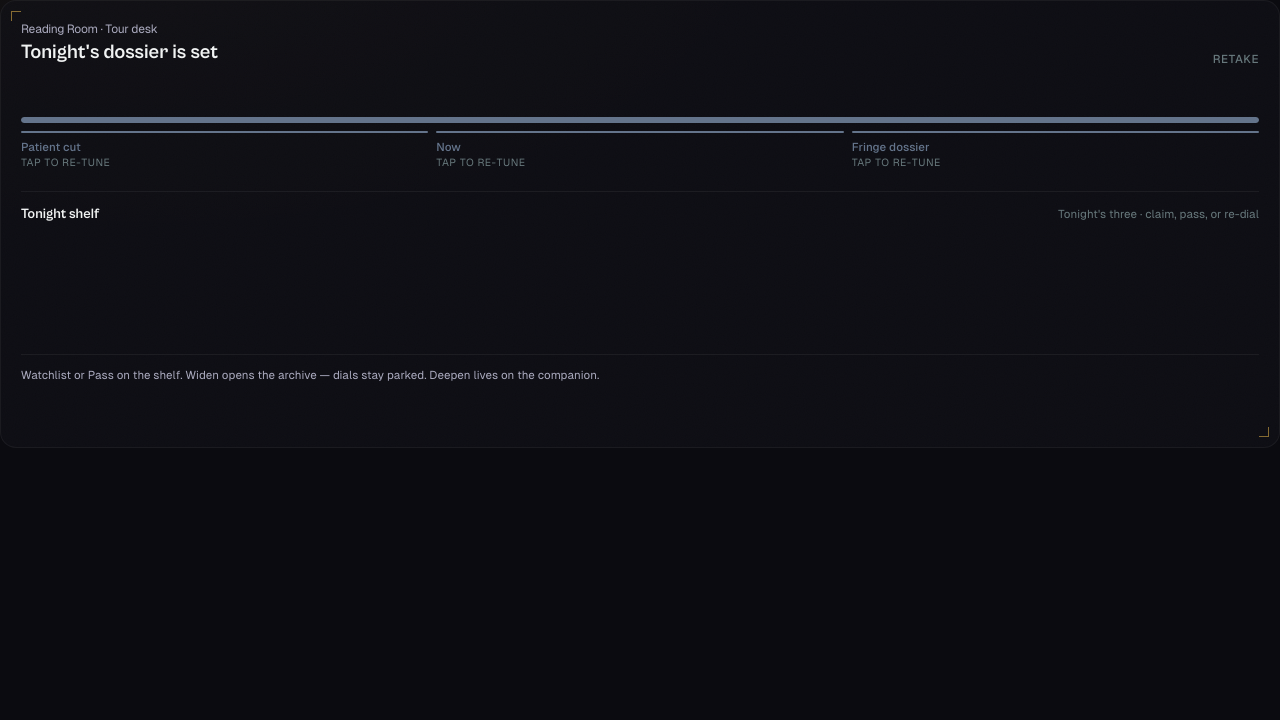
Test: GuidedTour › re-answers a prior dial without Retake
The image size is (1280, 720).
Check: the text with test id "guided-dial-hint-tempo" reads "Tap to re-tune", box x1=21 y1=156 x2=110 y2=168
Step 1. Click the button with test id "guided-dial-tempo" → (225, 132), box x1=21 y1=131 x2=428 y2=170
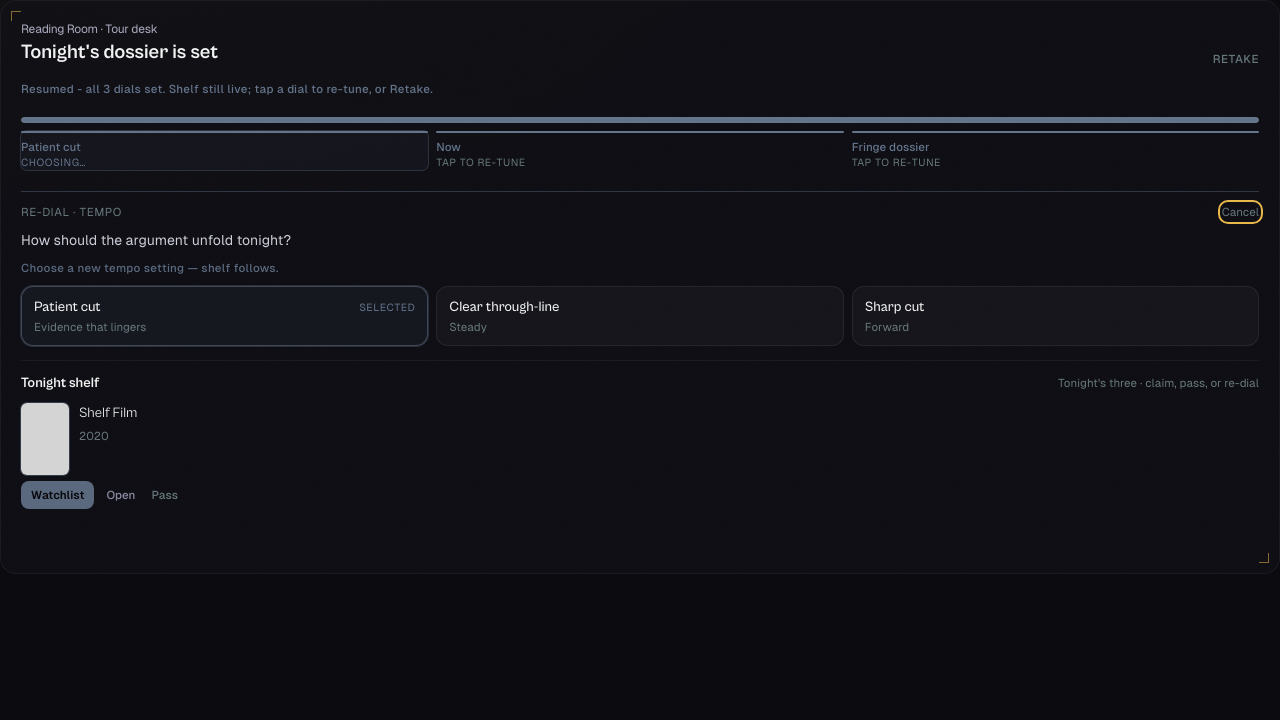
Check: the element with test id "guided-active-dial" is shown, box x1=21 y1=191 x2=1259 y2=346
Check: the element with test id "guided-active-dial" shows "Re-dial · Tempo", box x1=21 y1=205 x2=122 y2=219
Check: the text with test id "guided-dial-hint-tempo" shows "Choosing", box x1=21 y1=156 x2=86 y2=168
Step 2. Click the radio button labelled "Sharp cut Forward" → (894, 307), box x1=852 y1=286 x2=1259 y2=346
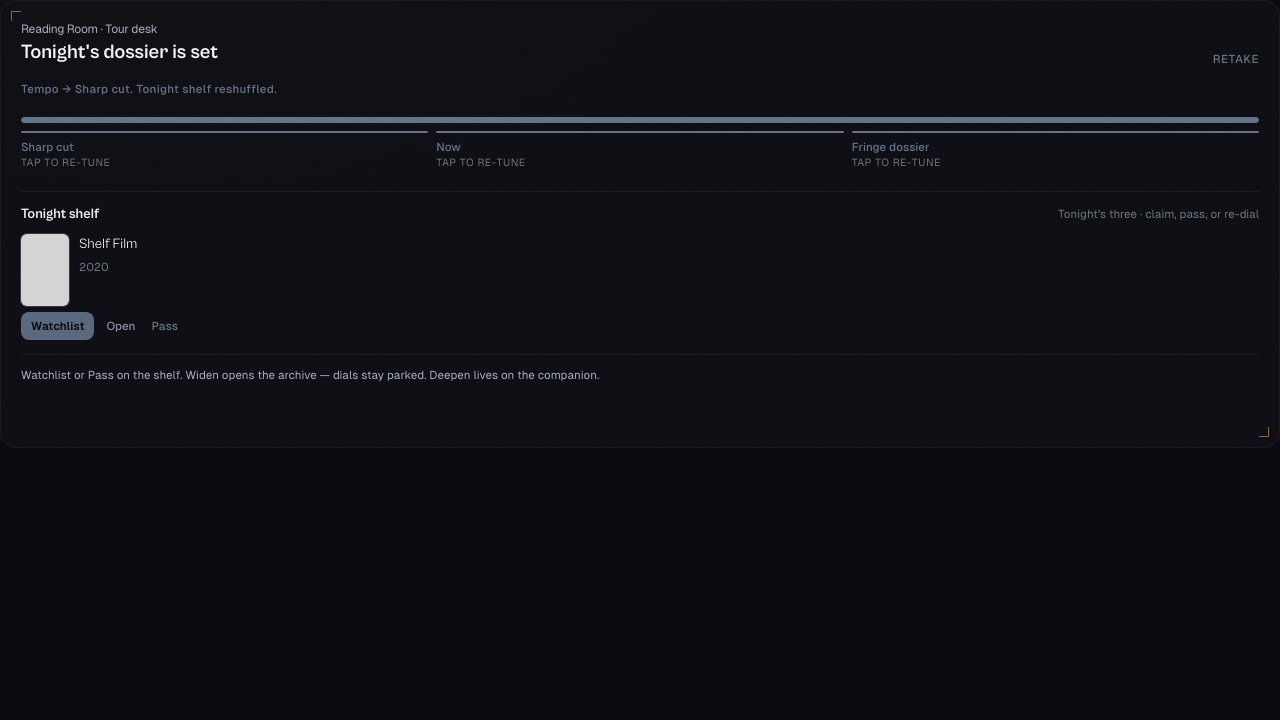
Check: the text with test id "guided-feedback" shows "Tempo →", box x1=21 y1=82 x2=277 y2=96
